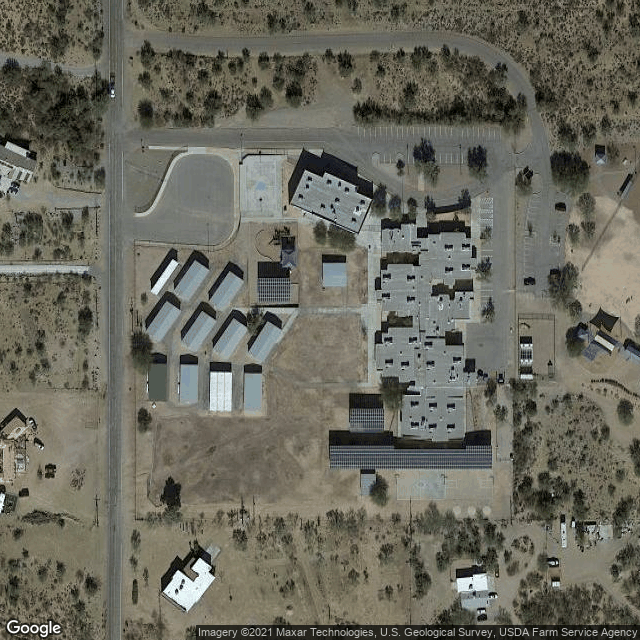carport-fixed: (328, 447, 490, 469), (348, 408, 385, 430), (256, 278, 290, 300)
